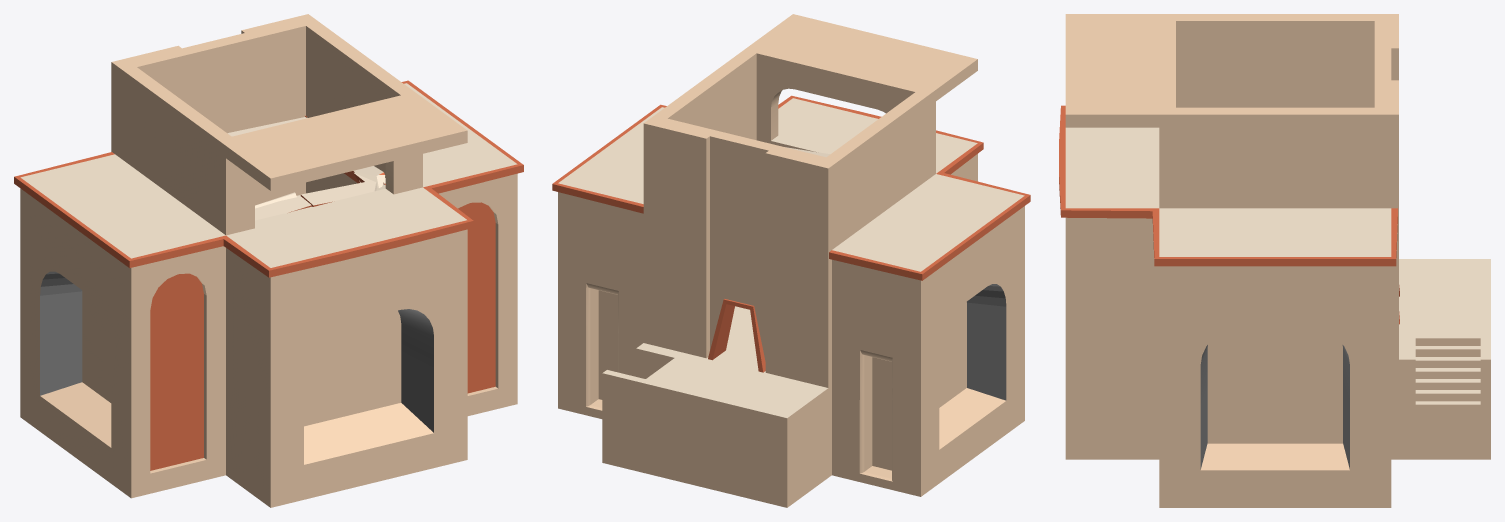
3 views of the same model, side by side, from view 1: azimuth 30°, elevation 25°; view 2: azimuth 150°, elevation 25°; view 3: azimuth 270°, elevation 25° (orthographic). The views are drawn at different scales.
Parts seen in each view (by area): view 1: LS_C1, LS_C_Broken_floor; view 2: LS_C1; view 3: LS_C1.
Boxes of the visible parts, x1,y1,x2,y2 form: LS_C1: (14, 14, 523, 507); LS_C_Broken_floor: (227, 115, 385, 220); LS_C1: (552, 14, 1030, 507); LS_C1: (1059, 14, 1490, 507).
Bounding box in the file's own units: 3352 × 2676 × 3037.
